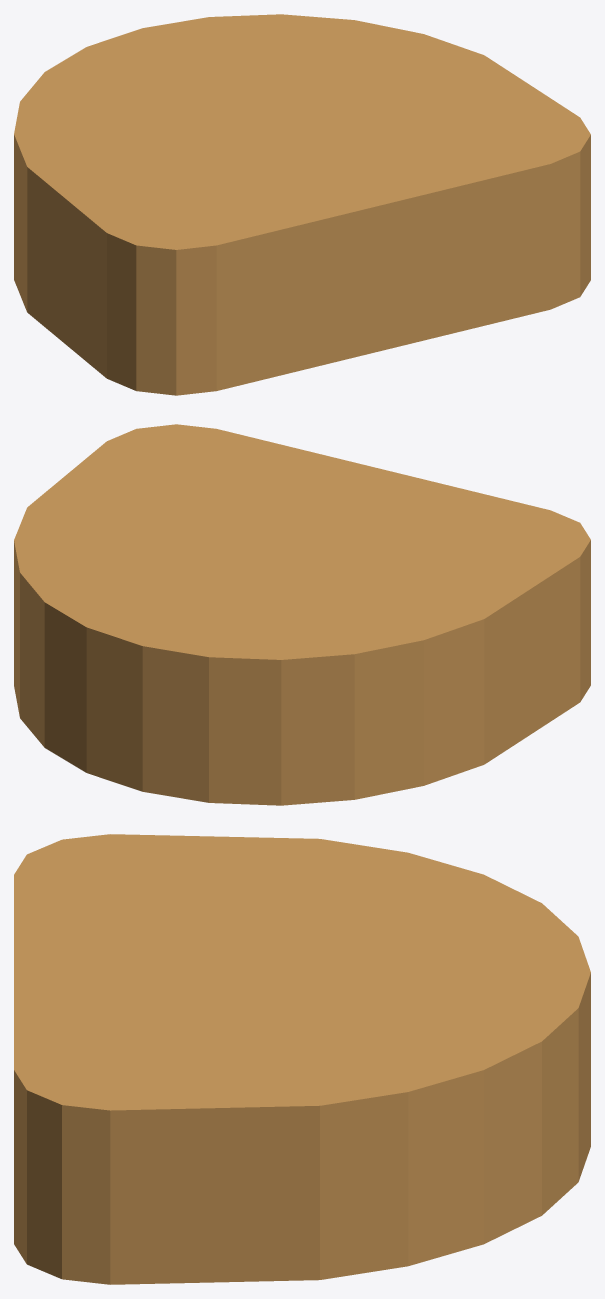
File: bread_whole.glb
3 renders of one model, top to bottom at view 1: azimuth 30°, elevation 25°; view 2: azimuth 150°, elevation 25°; view 3: azimuth 270°, elevation 25°, orthographic. The views are drawn at different scales.
Parts seen in each view (by area): view 1: bread_whole_0; view 2: bread_whole_0; view 3: bread_whole_0.
Part boxes in pixels (bbox=[...]): bread_whole_0: bbox=[14, 14, 590, 395]; bread_whole_0: bbox=[14, 424, 590, 805]; bread_whole_0: bbox=[14, 834, 590, 1284].
Size of the model in its own units: 0.17 by 0.05 by 0.15.
